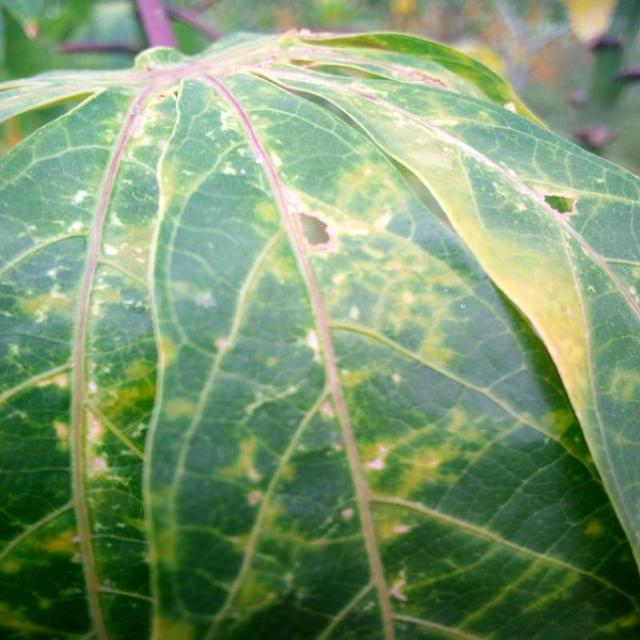cassava leaf: (0, 28, 639, 638)
